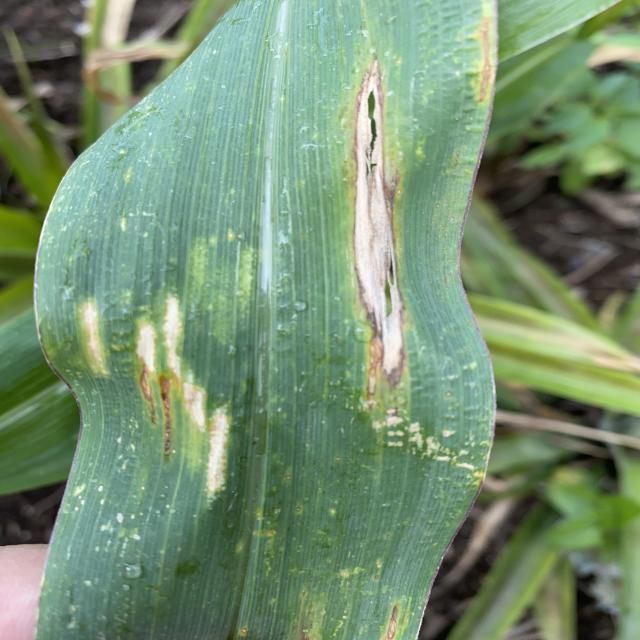Corn_Leaf_Blight: (46, 48, 499, 640)
